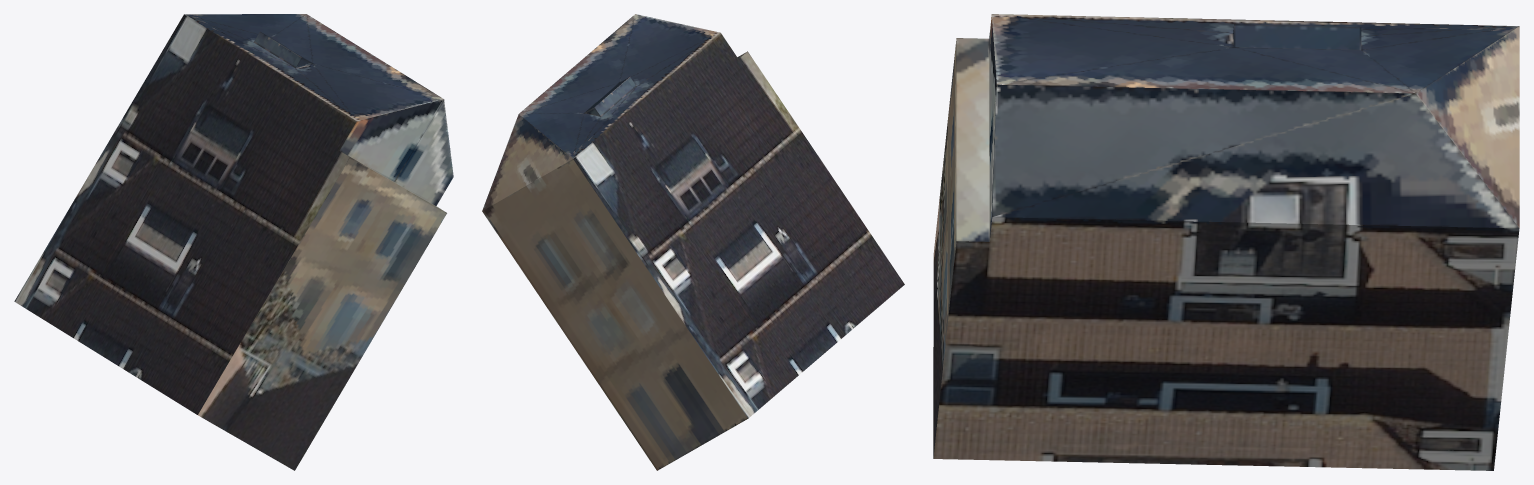
3 renders of one model, left to right at view 1: azimuth 30°, elevation 25°; view 2: azimuth 150°, elevation 25°; view 3: azimuth 270°, elevation 25°, orthographic. The views are drawn at different scales.
Parts seen in each view (by area): view 1: BAG_0599100000688707 (×4); view 2: BAG_0599100000688707 (×4); view 3: BAG_0599100000688707 (×4).
Boxes of the visible parts, x1,y1,x2,y2 form: BAG_0599100000688707 (×4): [14, 14, 453, 470]; BAG_0599100000688707 (×4): [482, 14, 904, 470]; BAG_0599100000688707 (×4): [933, 14, 1519, 470].
Size of the model in its own units: 11.14 by 12.5 by 12.47.
5 materials, 5 textured.
